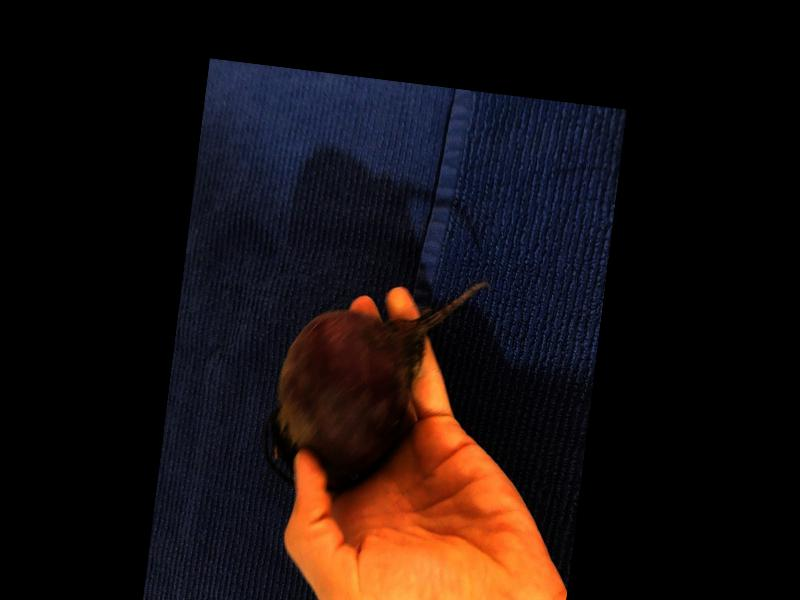Beet: (257, 255, 490, 506)
